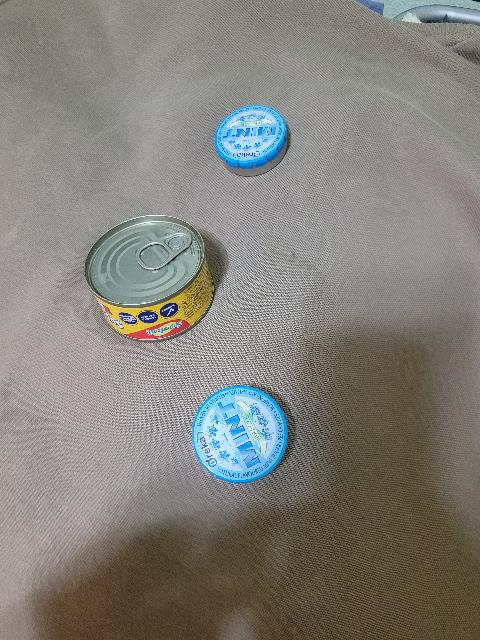Metal: (83, 214, 219, 341), (191, 385, 291, 487), (213, 107, 288, 177)
